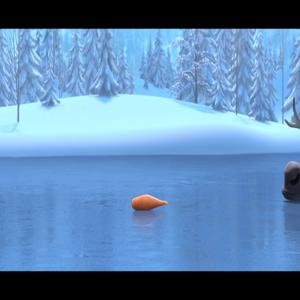carrot: (129, 182, 176, 224)
